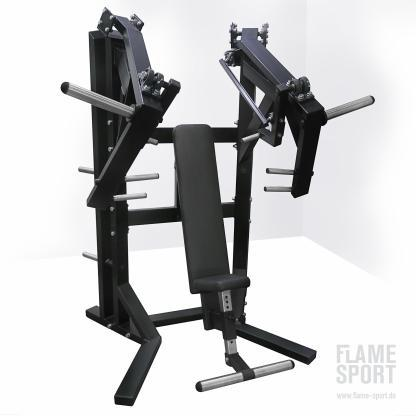Chest Press machine: (56, 2, 378, 416)
